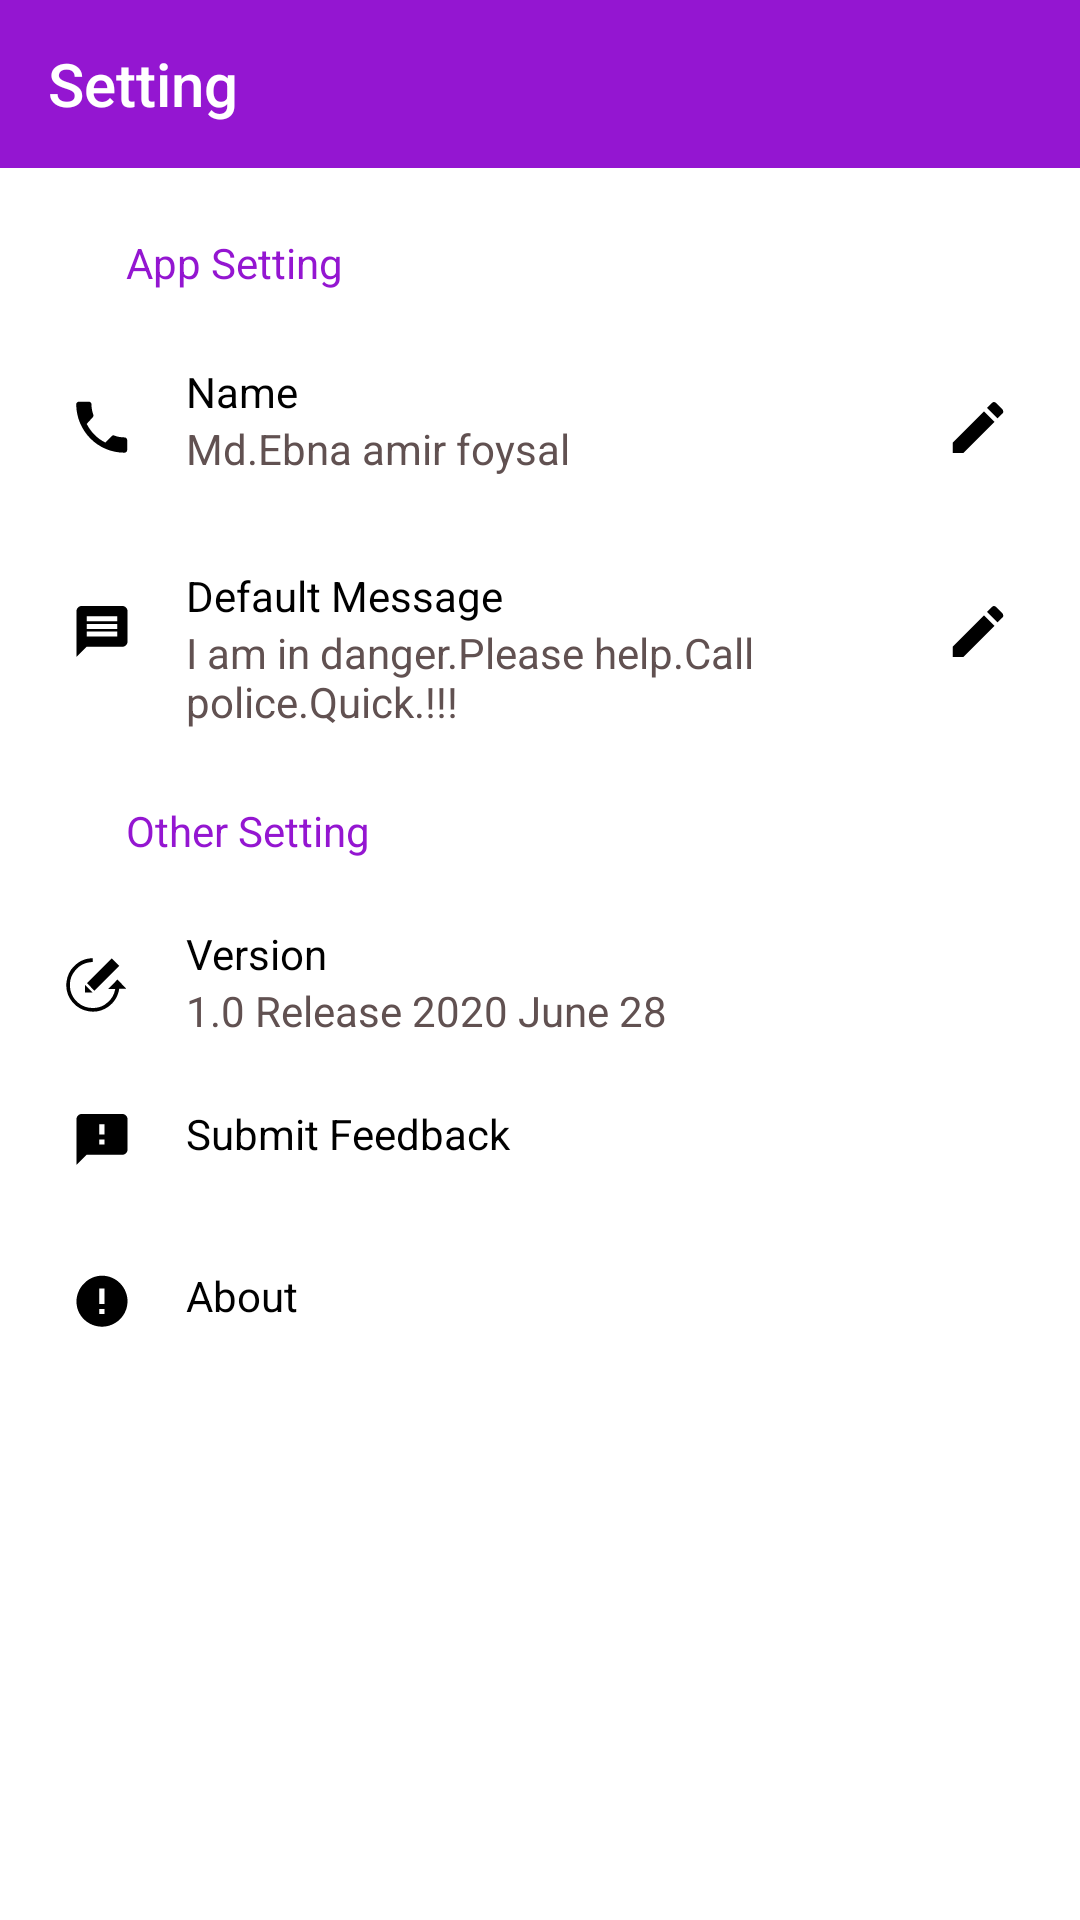

Named icons in this screenshot (1080*1920) and their bounding boxes, (x1, y1, x2, y2):
edit: (952, 402, 1004, 453), (952, 606, 1004, 657)
